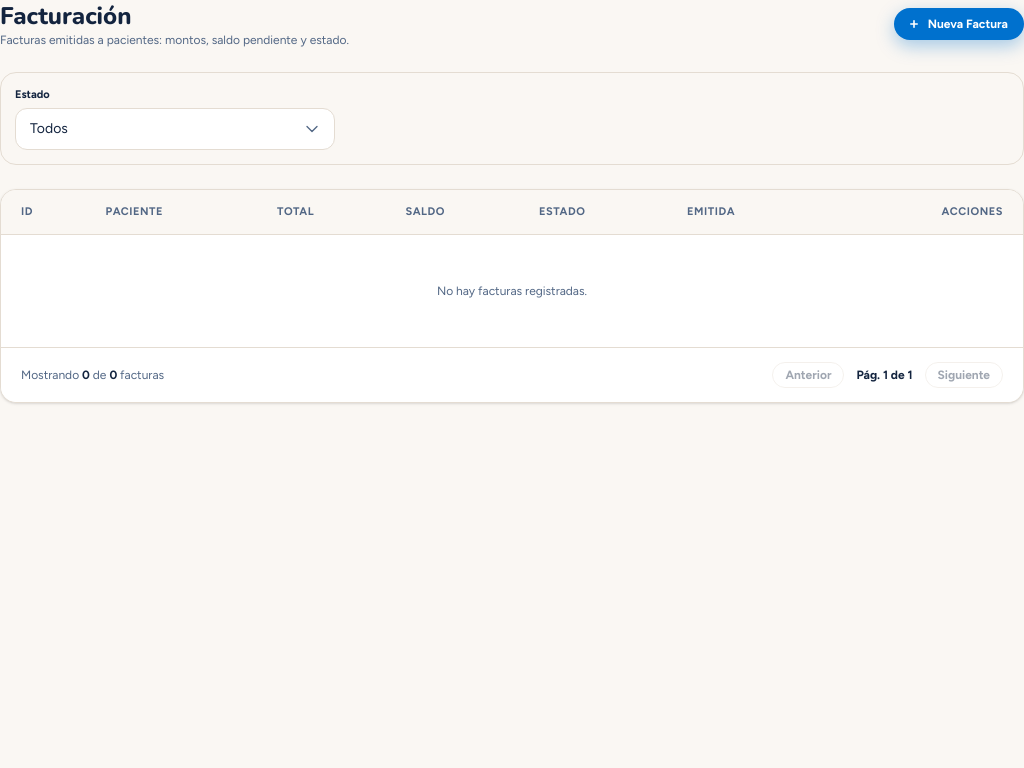
Test: FacturacionListComponent › create invoice flow › blocks submission without a selected patient
Click the button "Nueva Factura" at (959, 24), box [894, 8, 1023, 40]
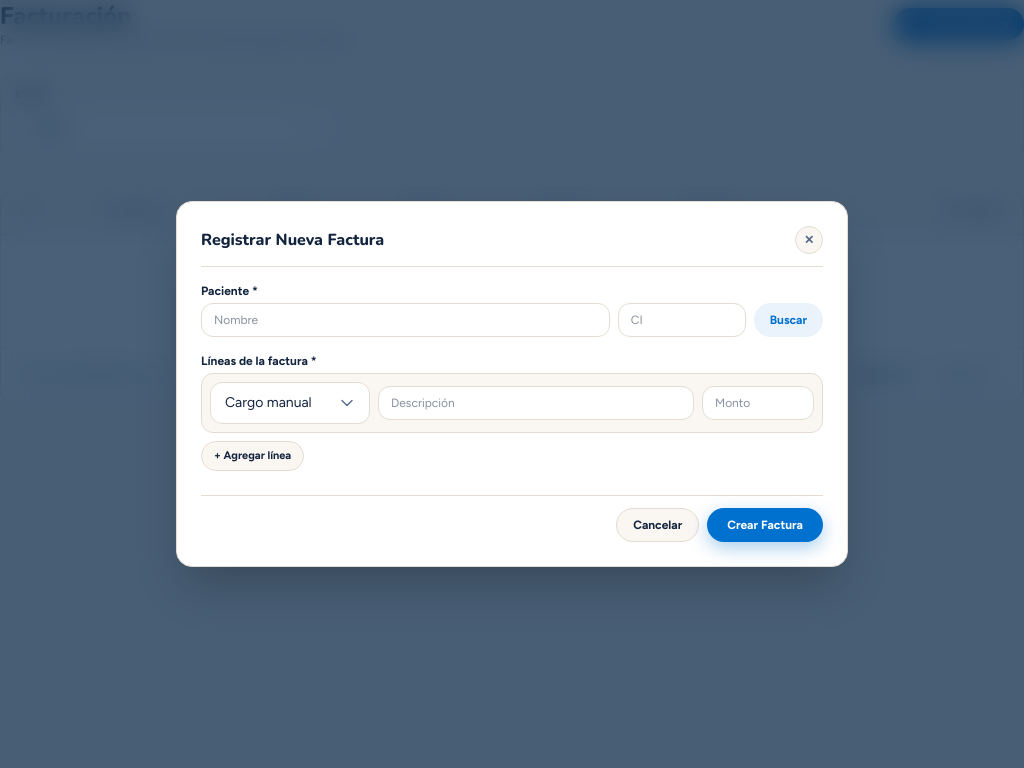
Type "50" into the number field named "lineAmount-0" at (758, 403), box [702, 386, 814, 420]
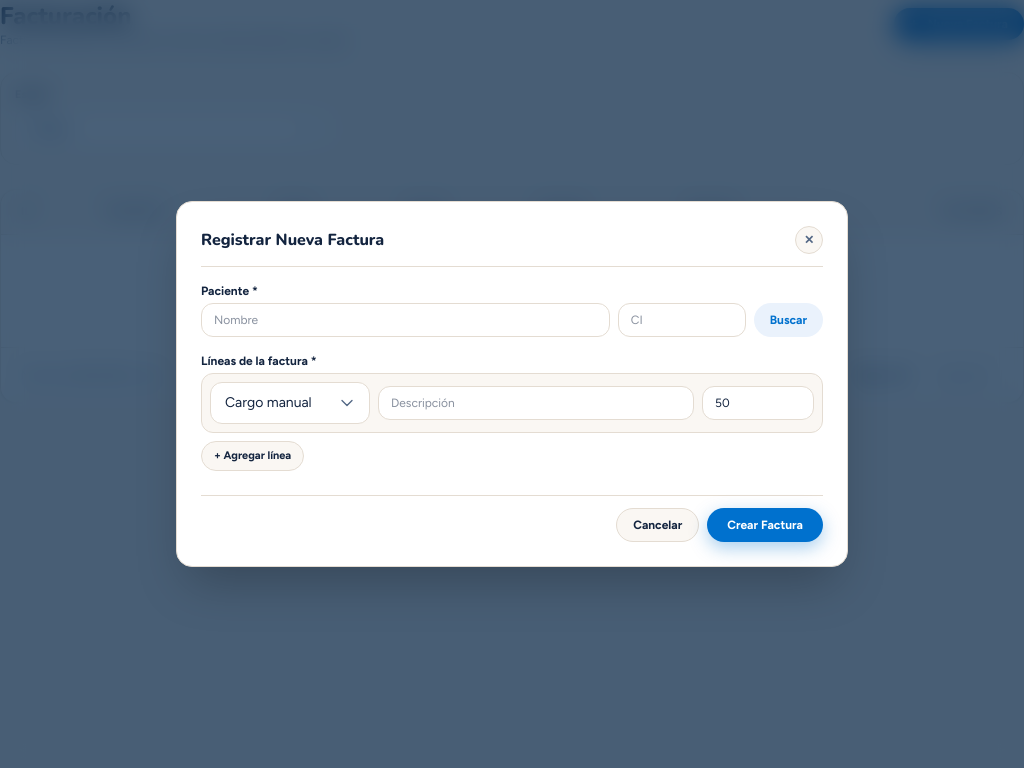
Type "Consulta" into the field named "lineDescription-0" at (536, 403), box [378, 386, 694, 420]
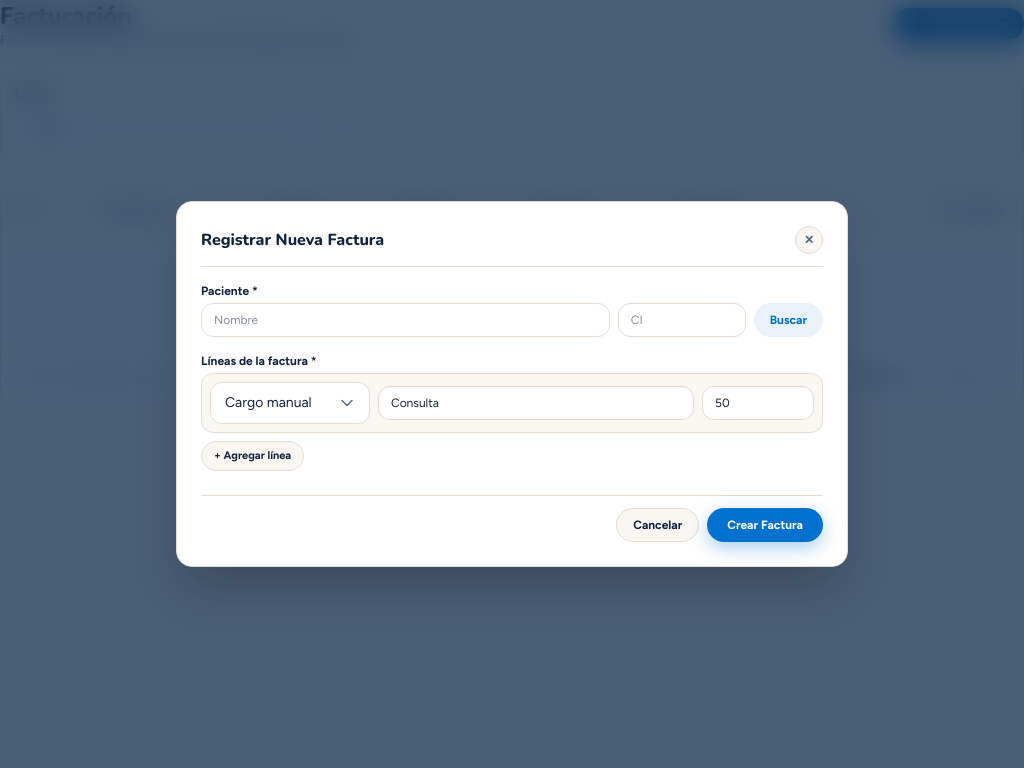
Submit the form named "createInvoiceForm", box [201, 283, 823, 542]
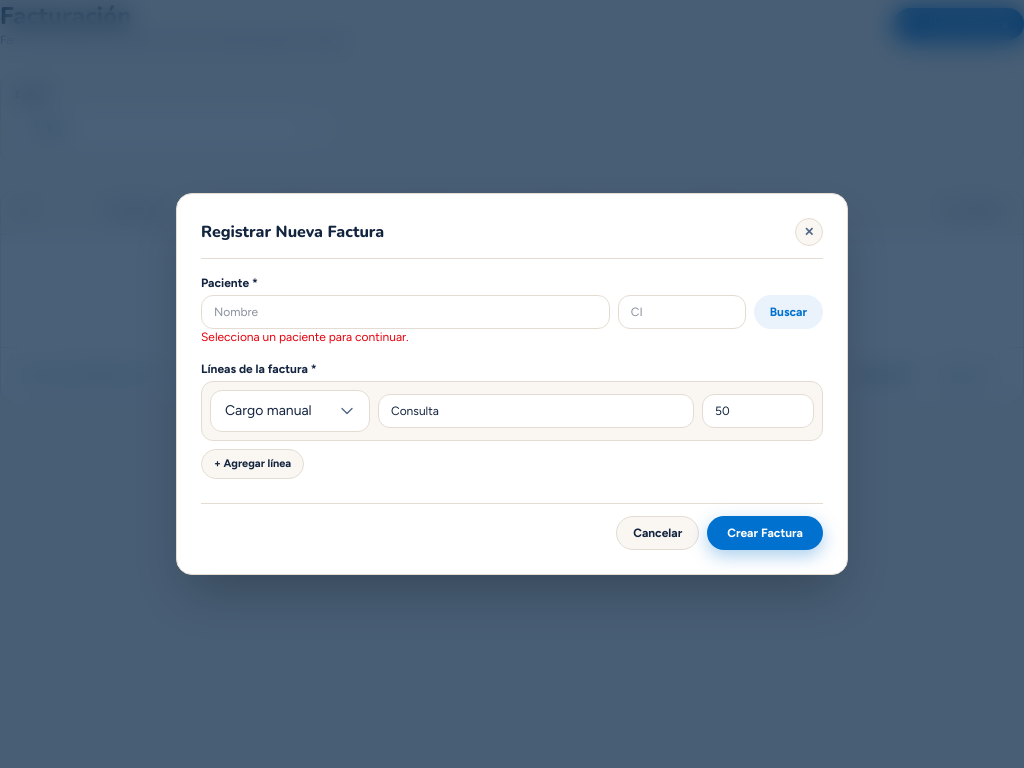
Result: the text "Selecciona un paciente" is shown at [201, 330, 409, 344]
